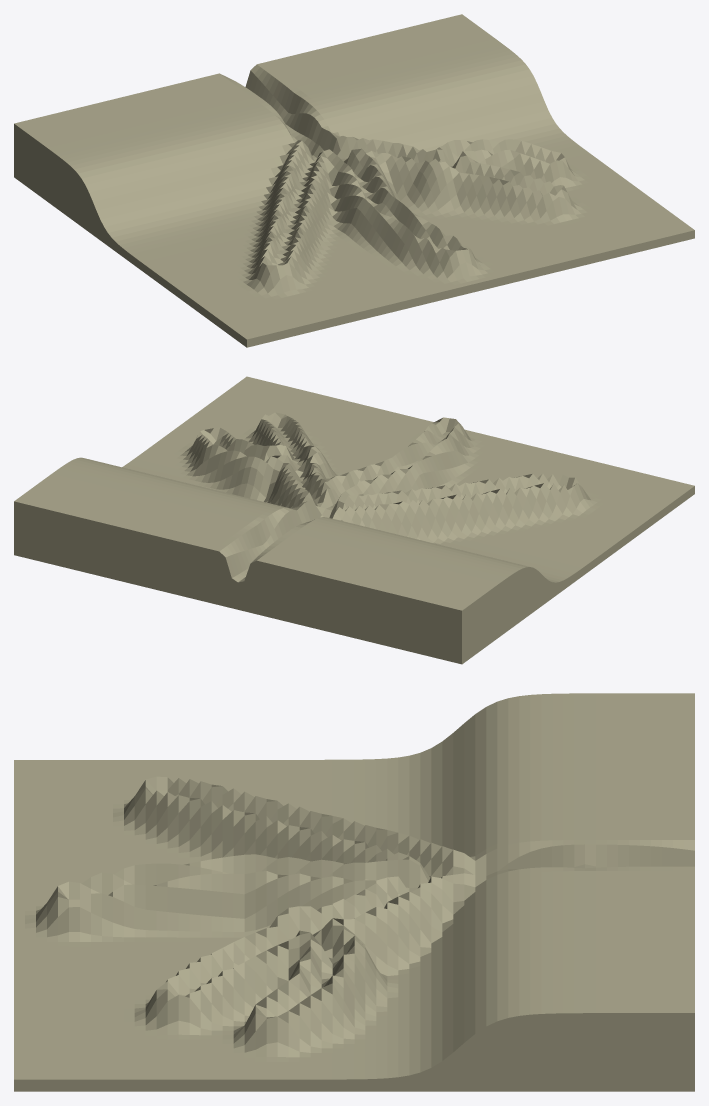
File: river-dominated-delta.glb
3 renders of one model, top to bottom at view 1: azimuth 30°, elevation 25°; view 2: azimuth 150°, elevation 25°; view 3: azimuth 270°, elevation 25°, orthographic. The views are drawn at different scales.
Visible parts, largest first — view 1: continuous-land-and-bed-birdfoot-delta-with-projecting-distr; view 2: continuous-land-and-bed-birdfoot-delta-with-projecting-distr; view 3: continuous-land-and-bed-birdfoot-delta-with-projecting-distr.
Boxes of the visible parts, left/top/right/bottom form: continuous-land-and-bed-birdfoot-delta-with-projecting-distr: left=14, top=14, right=694, bottom=347; continuous-land-and-bed-birdfoot-delta-with-projecting-distr: left=14, top=376, right=694, bottom=664; continuous-land-and-bed-birdfoot-delta-with-projecting-distr: left=14, top=693, right=694, bottom=1091.
Size of the model in its own units: 20 by 2.29 by 18.
